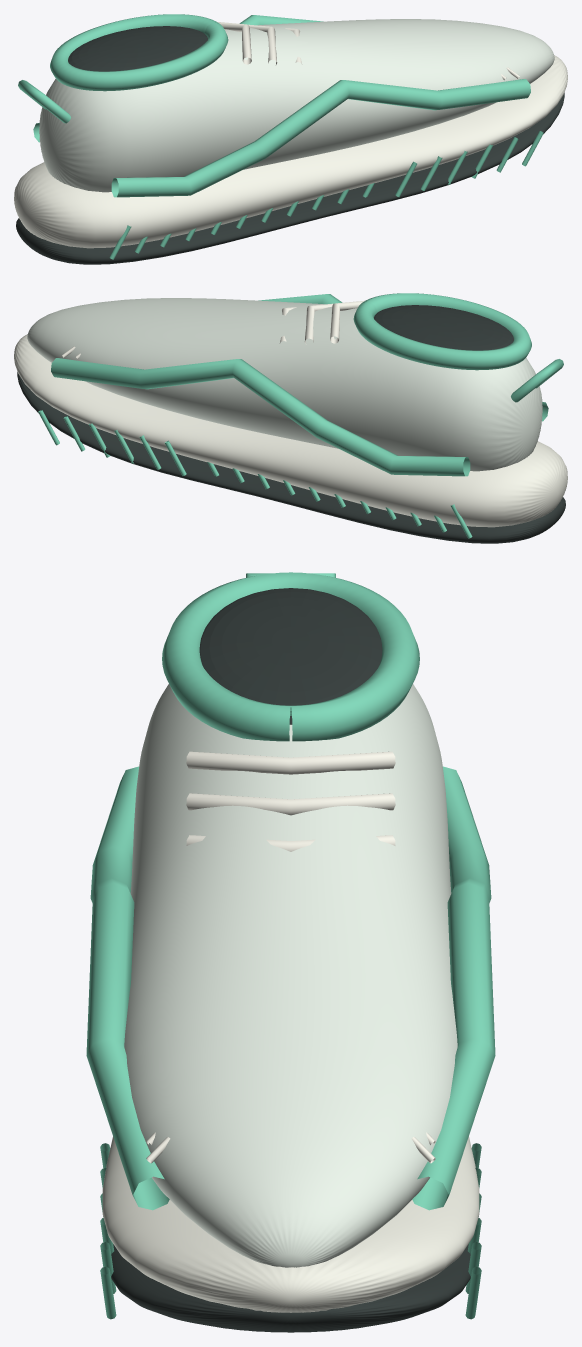
3 renders of one model, top to bottom at view 1: azimuth 30°, elevation 25°; view 2: azimuth 150°, elevation 25°; view 3: azimuth 270°, elevation 25°, orthographic. The views are drawn at different scales.
Visible parts, largest first — view 1: pg7 optimized runtime mesh; view 2: pg7 optimized runtime mesh; view 3: pg7 optimized runtime mesh.
Part boxes in pixels (x1,y1,x2,y2): pg7 optimized runtime mesh: [14, 14, 567, 264]; pg7 optimized runtime mesh: [14, 293, 567, 543]; pg7 optimized runtime mesh: [86, 572, 495, 1332].
Bounding box in the file's own units: 2.98 × 1.04 × 0.9796.
